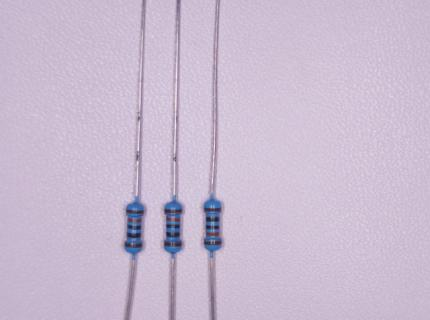Black band: (206, 217, 220, 222), (128, 225, 141, 230), (206, 225, 219, 230), (128, 233, 140, 238), (167, 233, 179, 237), (167, 225, 180, 228)
Brown band: (126, 210, 143, 214), (165, 209, 181, 213), (205, 241, 221, 245), (165, 242, 181, 246), (205, 208, 221, 211), (125, 244, 141, 247)
Orange band: (206, 232, 220, 236), (167, 217, 180, 221), (128, 218, 141, 222)
